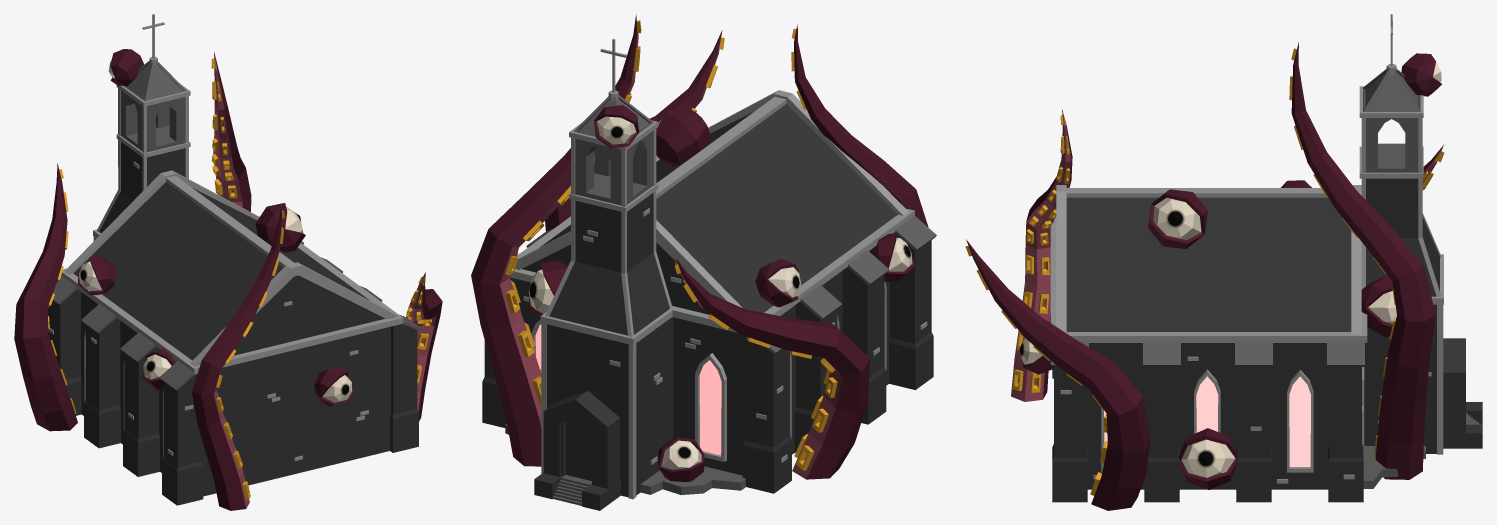
The model's file is Casedral.fbx.
3 renders of one model, left to right at view 1: azimuth 30°, elevation 25°; view 2: azimuth 150°, elevation 25°; view 3: azimuth 270°, elevation 25°, orthographic. The views are drawn at different scales.
Visible parts, largest first — view 1: Cube.098; view 2: Cube.098; view 3: Cube.098.
Boxes of the visible parts, <box> form: Cube.098: <box>14,14,442,510</box>; Cube.098: <box>471,14,936,510</box>; Cube.098: <box>965,14,1482,510</box>.
Bounding box in the file's own units: 9.22 × 9.23 × 10.25.
